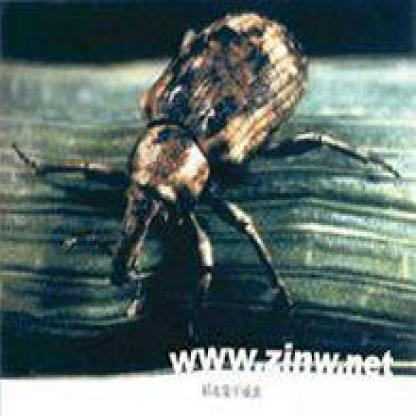rice-bug: (98, 11, 317, 294)
